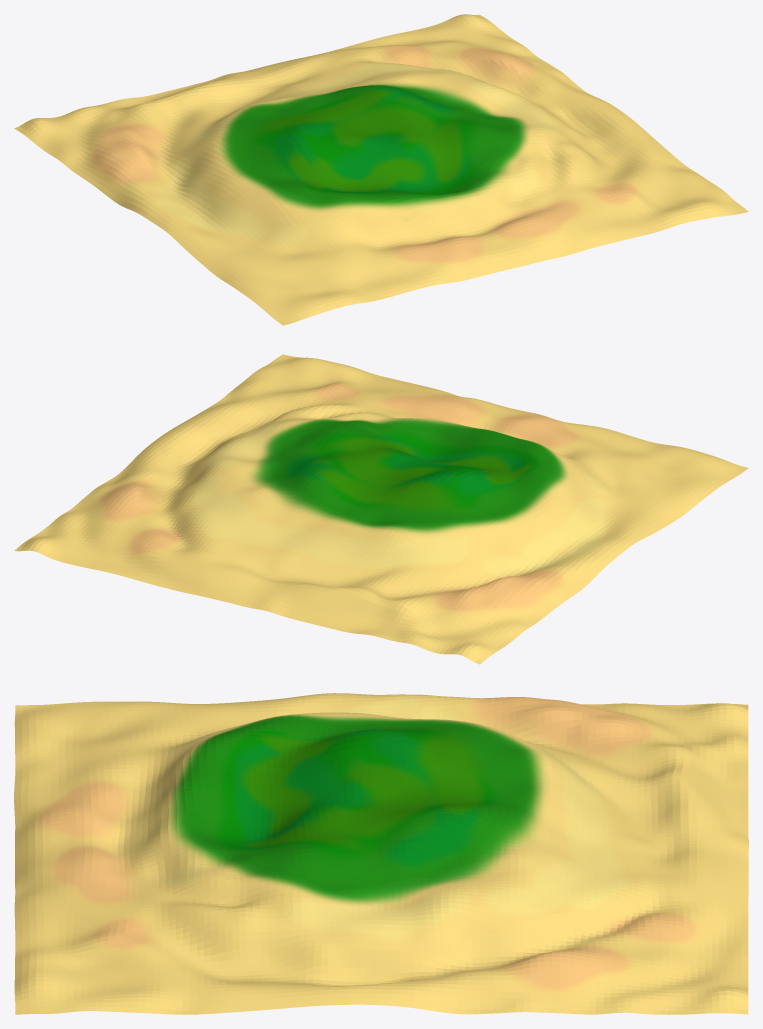
Rendered from Island.obj.
3 views of the same model, one above another, from view 1: azimuth 30°, elevation 25°; view 2: azimuth 150°, elevation 25°; view 3: azimuth 270°, elevation 25° (orthographic). The views are drawn at different scales.
Parts seen in each view (by area): view 1: Plane_Plane.003; view 2: Plane_Plane.003; view 3: Plane_Plane.003.
Boxes of the visible parts, box(x1,y1,x2,y2) form: Plane_Plane.003: box(14, 14, 748, 325); Plane_Plane.003: box(14, 354, 748, 664); Plane_Plane.003: box(14, 693, 748, 1014).
Bounding box in the file's own units: 100 × 11.25 × 100.
